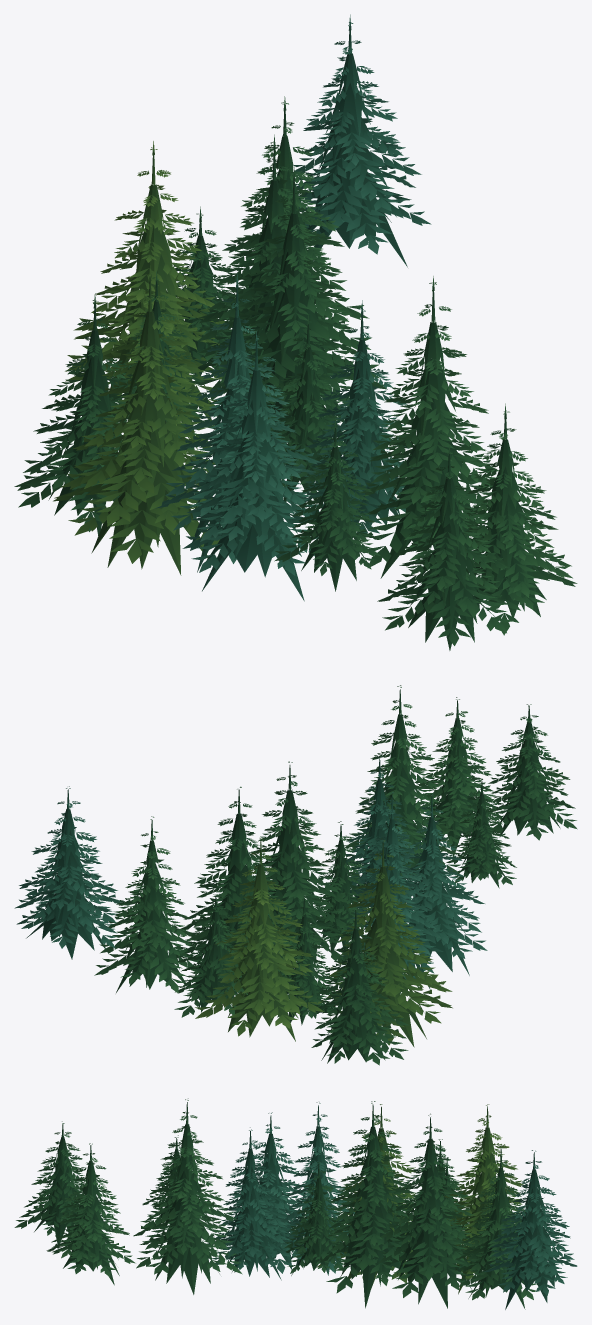
3 renders of one model, top to bottom at view 1: azimuth 30°, elevation 25°; view 2: azimuth 150°, elevation 25°; view 3: azimuth 270°, elevation 25°, orthographic. The views are drawn at different scales.
Visible parts, largest first — view 1: pn_3; view 2: pn_3; view 3: pn_3.
Part boxes in pixels (x1=…): pn_3: x1=14, y1=14, x2=577, y2=650; pn_3: x1=14, y1=685, x2=577, y2=1065; pn_3: x1=14, y1=1098, x2=577, y2=1309.
Size of the model in its own units: 26.82 by 20.5 by 44.54.
1 material, 1 textured.
